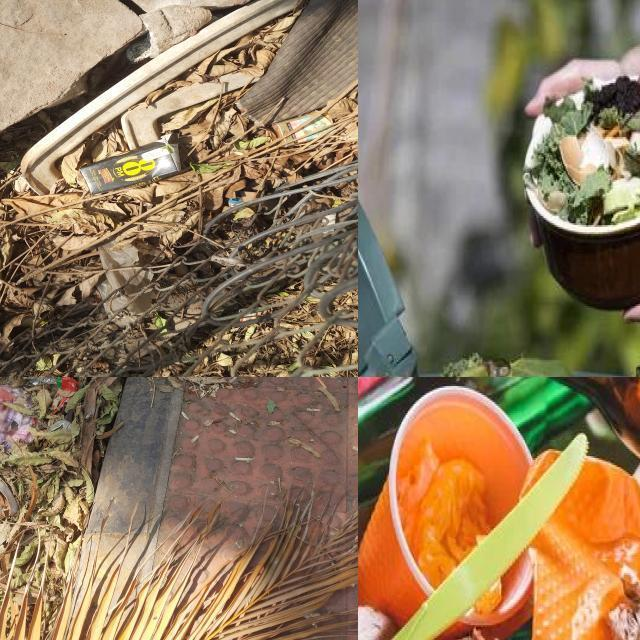Garbage: (0, 377, 358, 640), (358, 377, 640, 640), (528, 75, 640, 232)
Glass_bottle: (358, 377, 591, 504)
Plastic: (390, 434, 587, 640), (531, 459, 640, 640)
Plastic_Bag: (0, 385, 35, 452), (31, 377, 57, 385)
Plastic_wraper: (57, 377, 79, 392), (53, 396, 70, 415), (57, 394, 60, 398)
